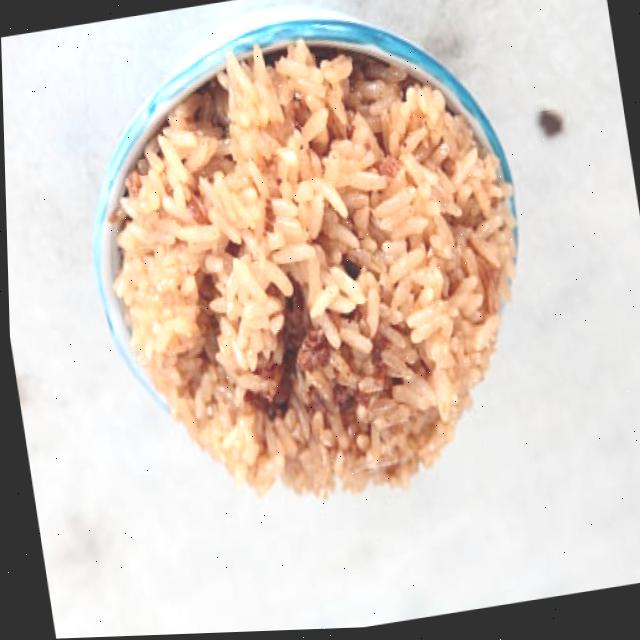米饭主食: (51, 0, 573, 557)
